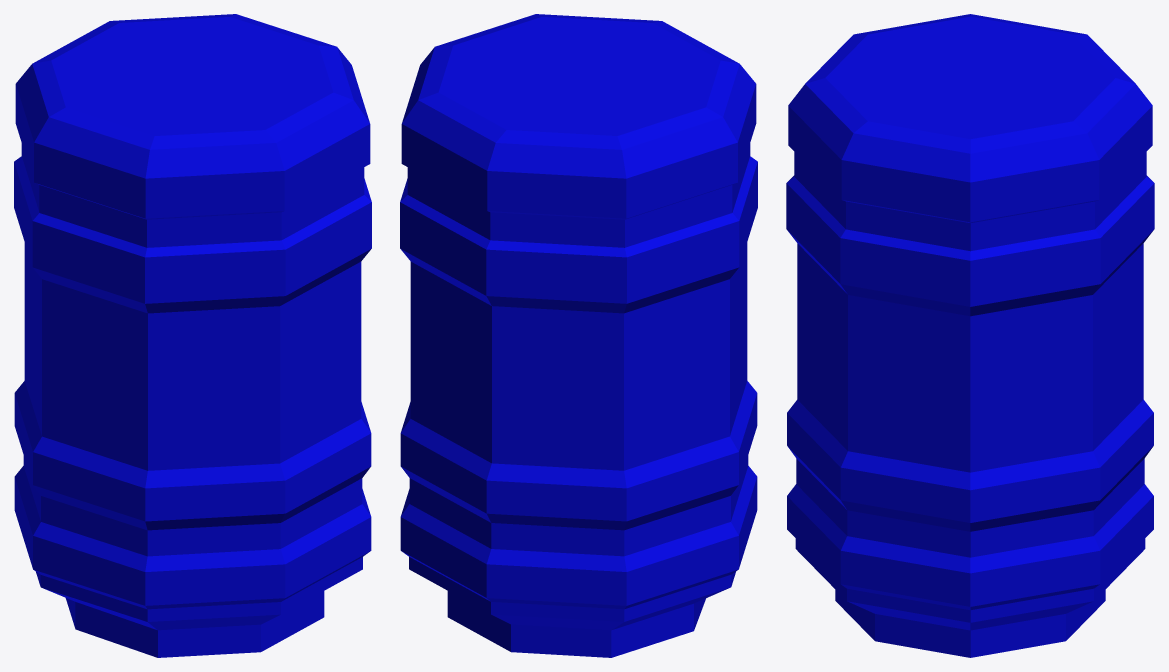
File: ton.fbx
3 renders of one model, left to right at view 1: azimuth 30°, elevation 25°; view 2: azimuth 150°, elevation 25°; view 3: azimuth 270°, elevation 25°, orthographic.
Visible parts, largest first — view 1: Cylinder.003; view 2: Cylinder.003; view 3: Cylinder.003.
Part boxes in pixels (left/top/right/bottom): Cylinder.003: left=14, top=14, right=371, bottom=657; Cylinder.003: left=400, top=14, right=757, bottom=657; Cylinder.003: left=786, top=14, right=1154, bottom=657.
Bounding box in the file's own units: 33.94 × 53.19 × 33.95.
